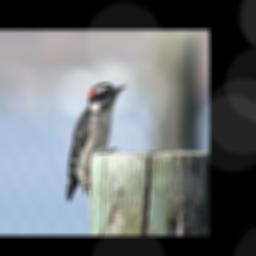Woodpecker: (65, 82, 127, 200)
